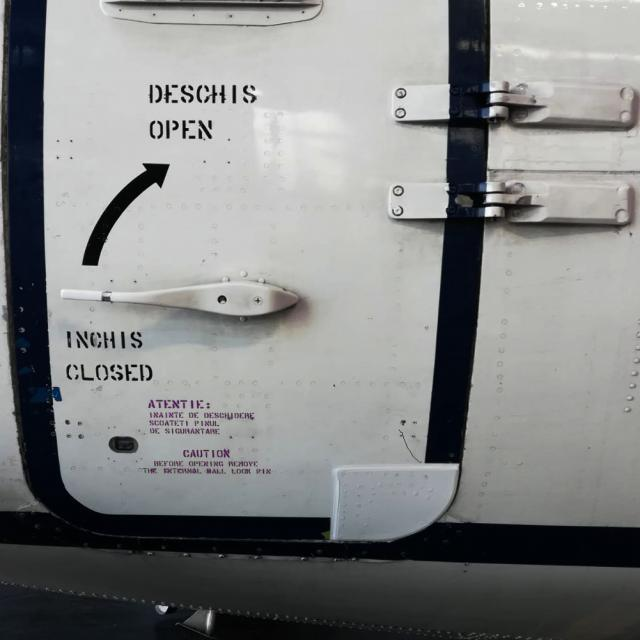crack: (394, 420, 428, 464)
